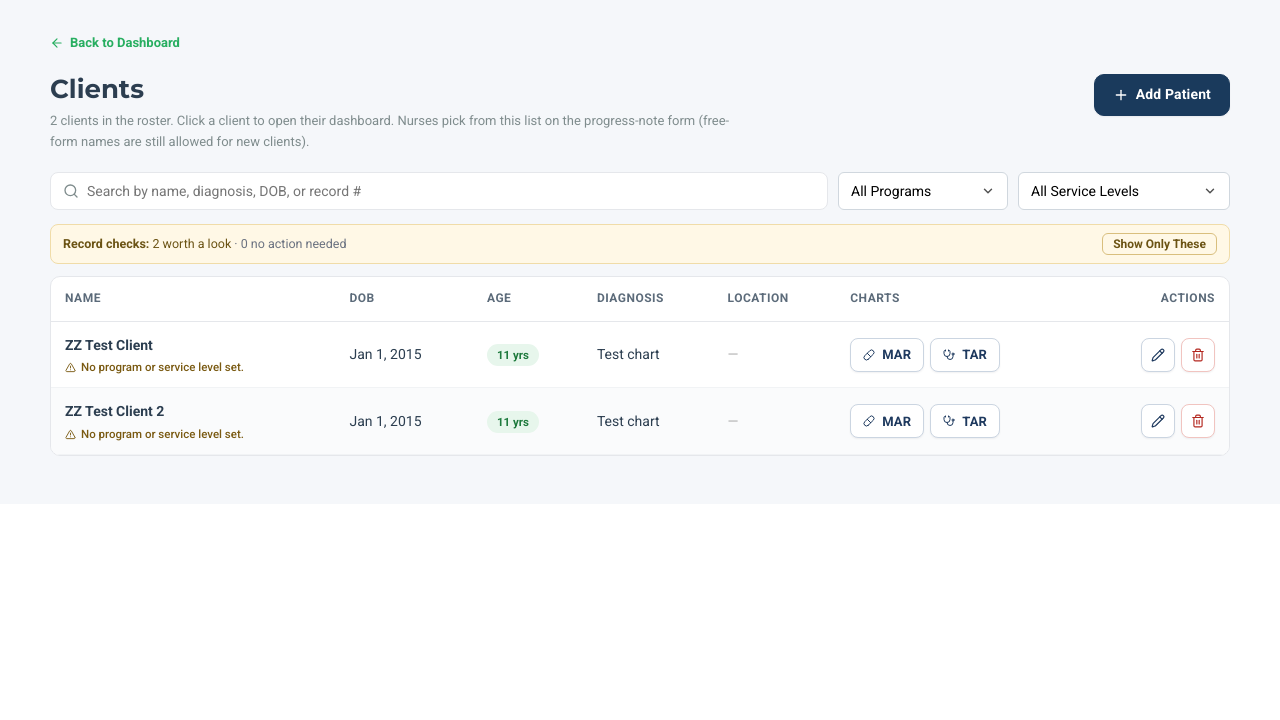
Test: ClientsRosterPage edit modal — clinical sub-record loading › doesn't show the previously opened client's record while the next one loads
The image size is (1280, 720).
Click the button named "Edit ZZ Test Client". click: (1158, 354)
box: x1=1141 y1=338 x2=1175 y2=372
(page scrolled)
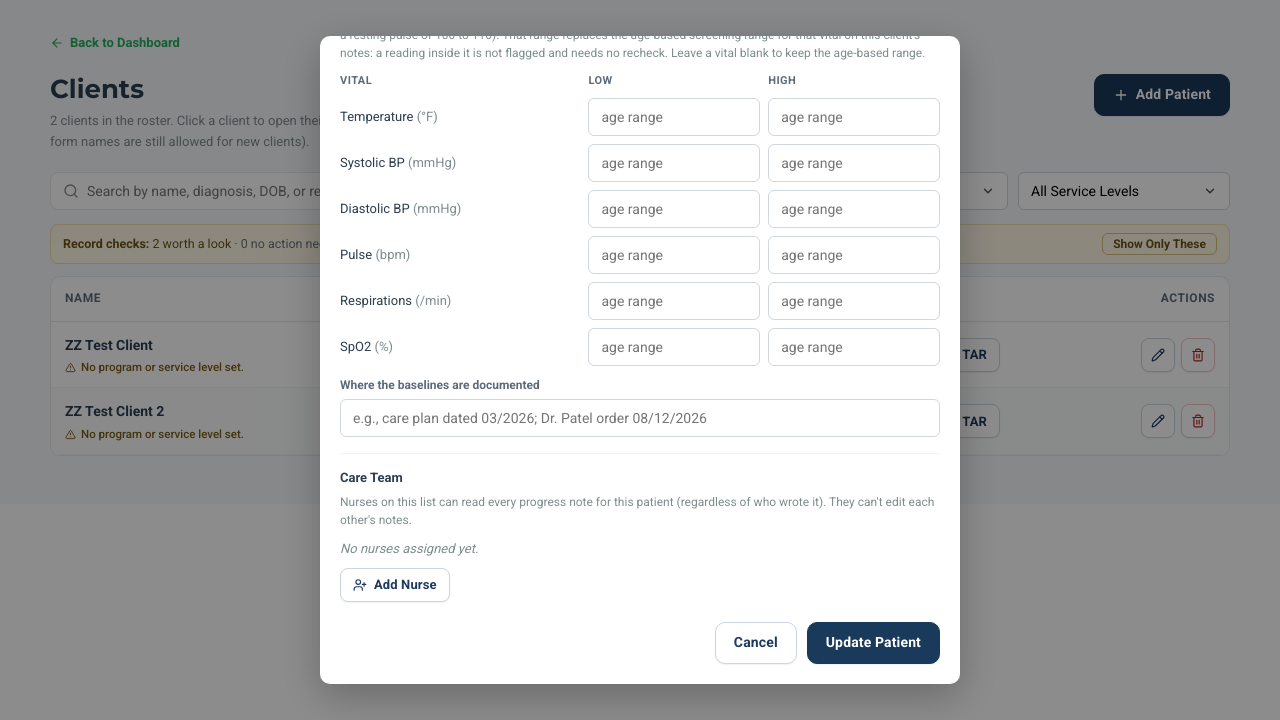
Click the button "Cancel". click: (756, 643)
box: x1=715 y1=622 x2=797 y2=664
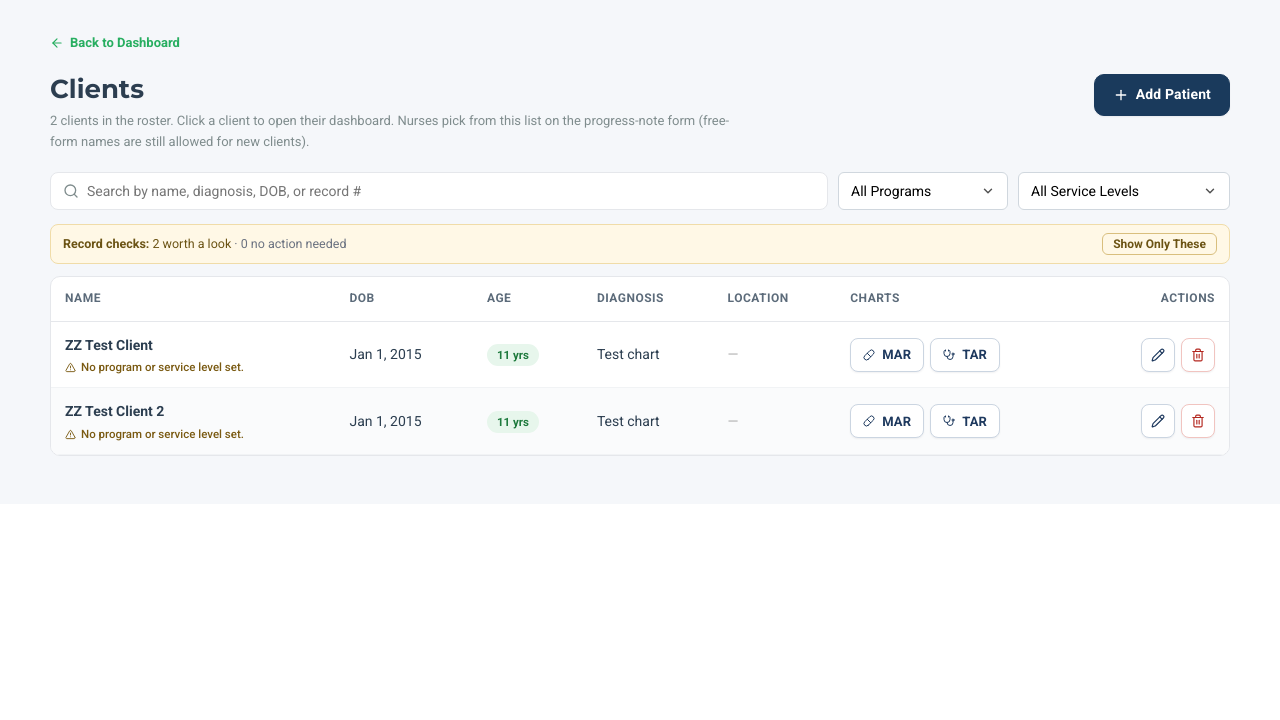
Click the button named "Edit ZZ Test Client 2". click: (1158, 421)
box: x1=1141 y1=404 x2=1175 y2=438
(page scrolled)
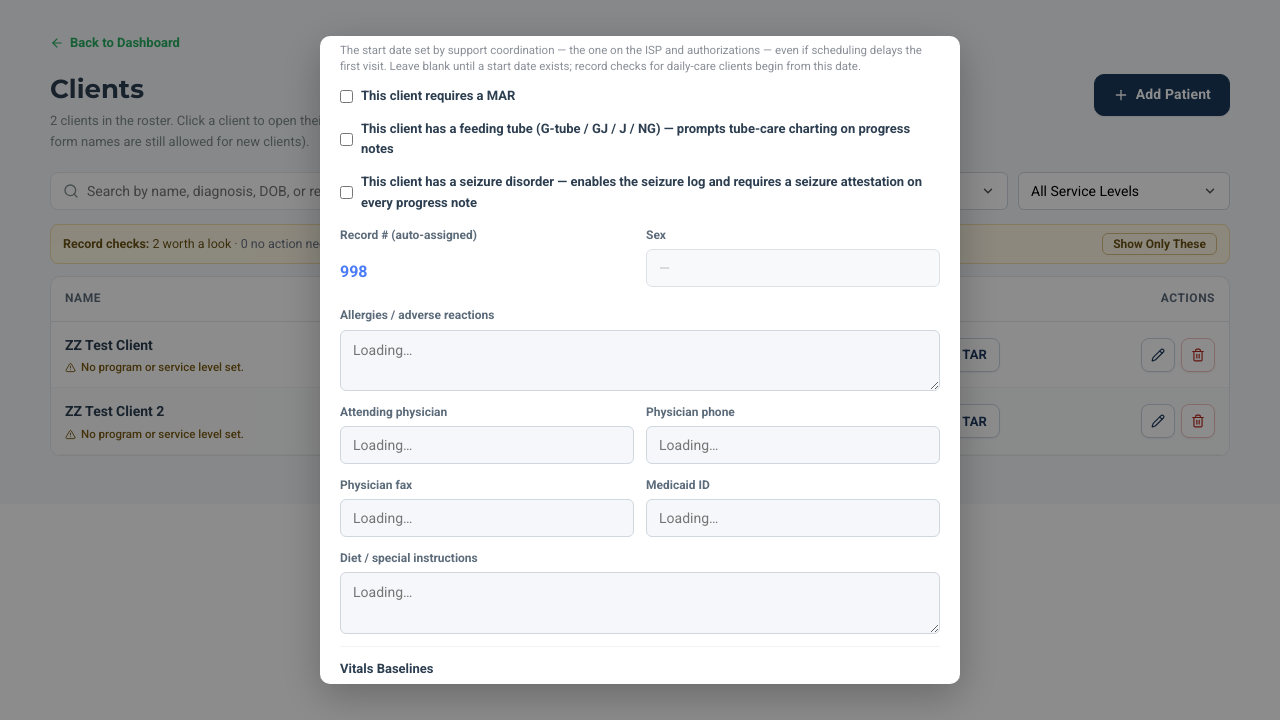
Expected: the text box labelled "Allergies / adverse reactions" is empty, x1=340 y1=330 x2=940 y2=391
Expected: the field labelled "Medicaid ID" is empty, x1=646 y1=499 x2=940 y2=537
Expected: the text box labelled "Allergies / adverse reactions" is disabled, x1=340 y1=330 x2=940 y2=391
